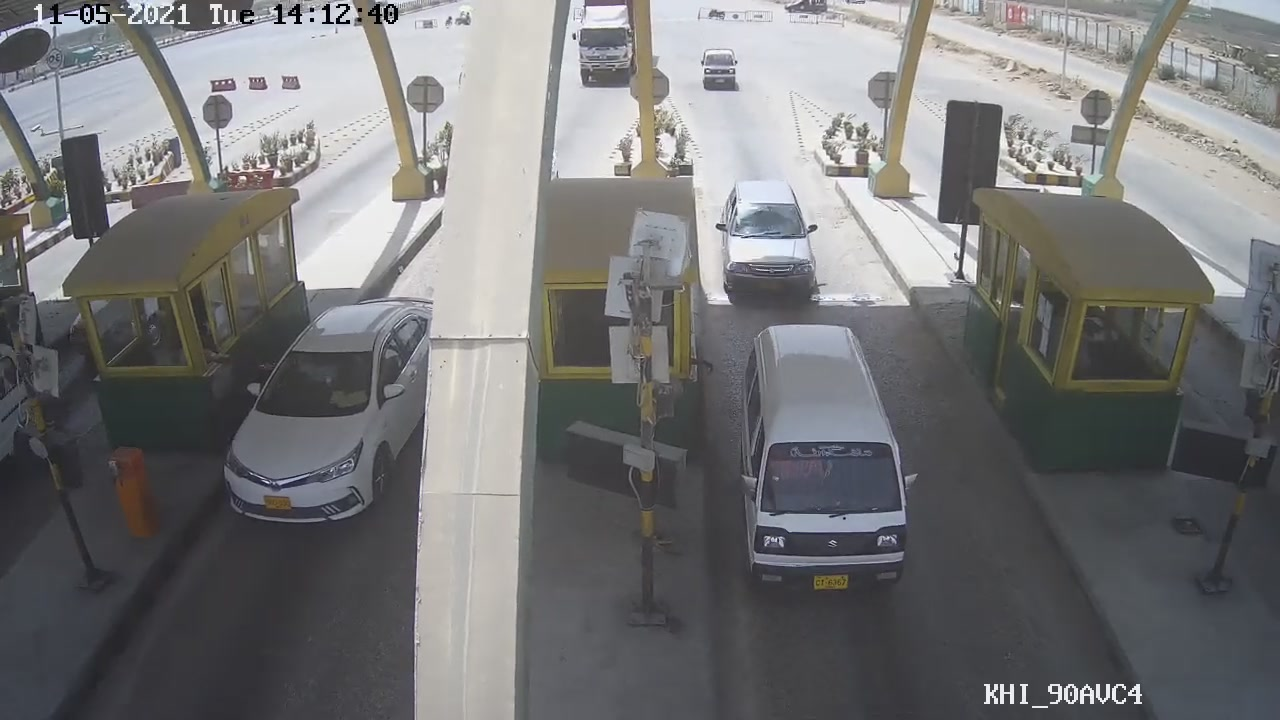F1: (731, 313, 921, 615)
